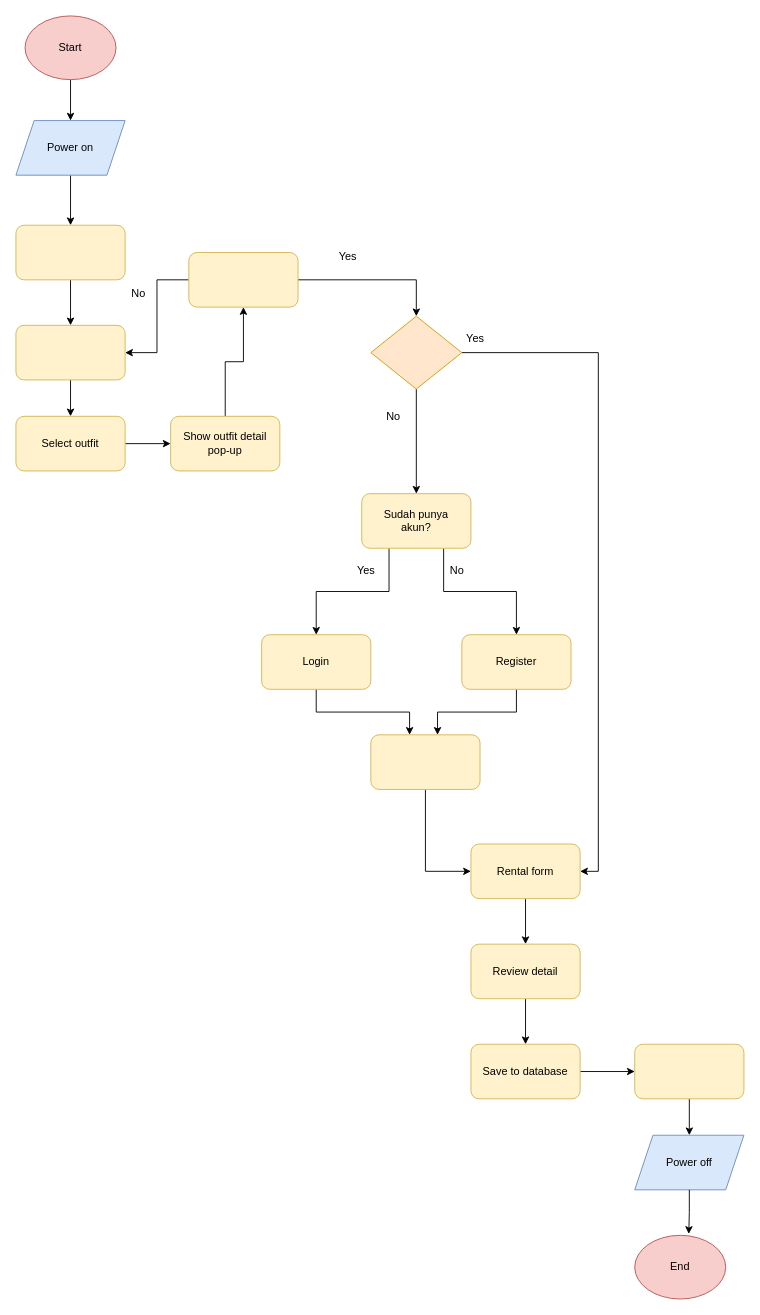
This 760x1315 diagram has some shape labels left out. Each missing label, with the centre of its shape:
Buka Website: the point at 70,252
Kembali ke pilihan outfit: the point at 425,761
Mau rental: the point at 243,279
Sign-in: the point at 416,352
Status booking: the point at 689,1071
View Katalog outfit: the point at 70,352
